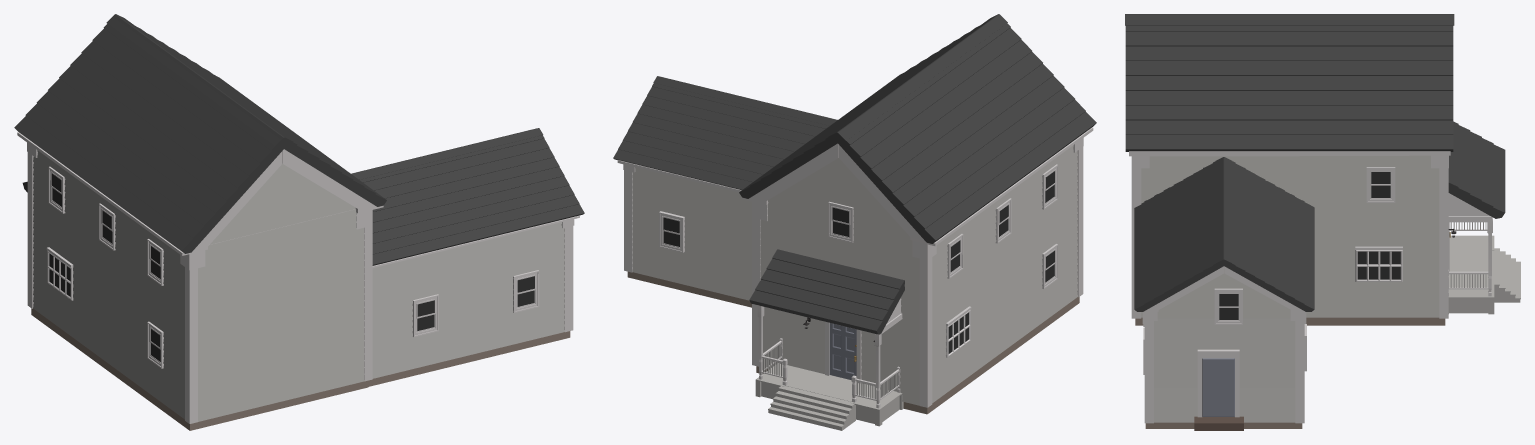
Rendered from house5.fbx.
3 views of the same model, side by side, from view 1: azimuth 30°, elevation 25°; view 2: azimuth 150°, elevation 25°; view 3: azimuth 270°, elevation 25° (orthographic). The views are drawn at different scales.
Parts seen in each view (by area): view 1: pCube1044 (×2), pCube1071, pCube1070, pCube1058, pCube1074, pCube1059, pCube1075, pCube1047 (×2), pCube1069, roofframe_main (×2), pCube1046, pCube997 (+6 smaller); view 2: pCube1044, pCube1046 (×2), pCube1058, pCube1059, porchroof, pCube1062, pCube1072, pCube1063, pCube1073, pCube1047 (×2), porch, pCube1068 (+13 smaller); view 3: pCube1046 (×2), pCube1060, pCube1061, pCube1044, pCube1077, pCube1047 (×2), porchroof, pCube1078, porch, roofframe_main (×2), pCube1076, pCube1096 (+14 smaller).
Part boxes in pixels (bbox=[...]): pCube1044 (×2): bbox=[14, 24, 584, 265]; pCube1071: bbox=[198, 294, 364, 421]; pCube1070: bbox=[198, 209, 364, 334]; pCube1058: bbox=[33, 222, 184, 419]; pCube1074: bbox=[372, 222, 564, 334]; pCube1059: bbox=[33, 150, 184, 332]; pCube1075: bbox=[372, 288, 564, 378]; pCube1047 (×2): bbox=[106, 14, 543, 179]; pCube1069: bbox=[210, 164, 355, 244]; roofframe_main (×2): bbox=[17, 132, 579, 268]; pCube1046: bbox=[136, 26, 386, 206]; pCube997: bbox=[31, 308, 368, 430]; pCube1044: bbox=[838, 23, 1096, 243]; pCube1046 (×2): bbox=[613, 25, 979, 198]; pCube1058: bbox=[932, 214, 1077, 402]; pCube1059: bbox=[932, 145, 1077, 319]; porchroof: bbox=[749, 249, 904, 334]; pCube1062: bbox=[760, 202, 919, 322]; pCube1072: bbox=[632, 167, 751, 259]; pCube1063: bbox=[763, 307, 919, 405]; pCube1073: bbox=[632, 230, 751, 300]; pCube1047 (×2): bbox=[653, 14, 1007, 141]; porch: bbox=[755, 305, 903, 426]; pCube1068: bbox=[768, 158, 909, 236]; pCube1046 (×2): bbox=[1125, 25, 1453, 311]; pCube1060: bbox=[1141, 155, 1439, 232]; pCube1061: bbox=[1141, 233, 1439, 317]; pCube1044: bbox=[1134, 161, 1224, 311]; pCube1077: bbox=[1154, 318, 1295, 387]; pCube1047 (×2): bbox=[1125, 14, 1454, 263]; porchroof: bbox=[1448, 121, 1505, 218]; pCube1078: bbox=[1154, 387, 1295, 422]; porch: bbox=[1448, 219, 1494, 314]; roofframe_main (×2): bbox=[1129, 151, 1450, 311]; pCube1076: bbox=[1157, 266, 1290, 318]; pCube1096: bbox=[1202, 358, 1234, 416].
Bounding box in the file's own units: 19.12 × 12.4 × 16.22.
